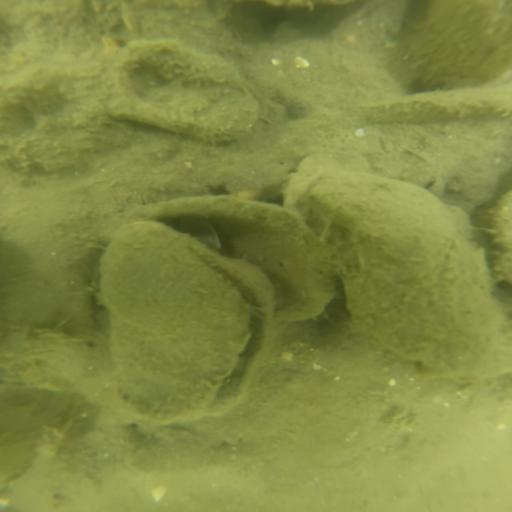Oyster-Closed: (289, 169, 512, 388), (118, 193, 343, 330), (104, 35, 268, 143)
Oyster-Open: (98, 217, 280, 430)
